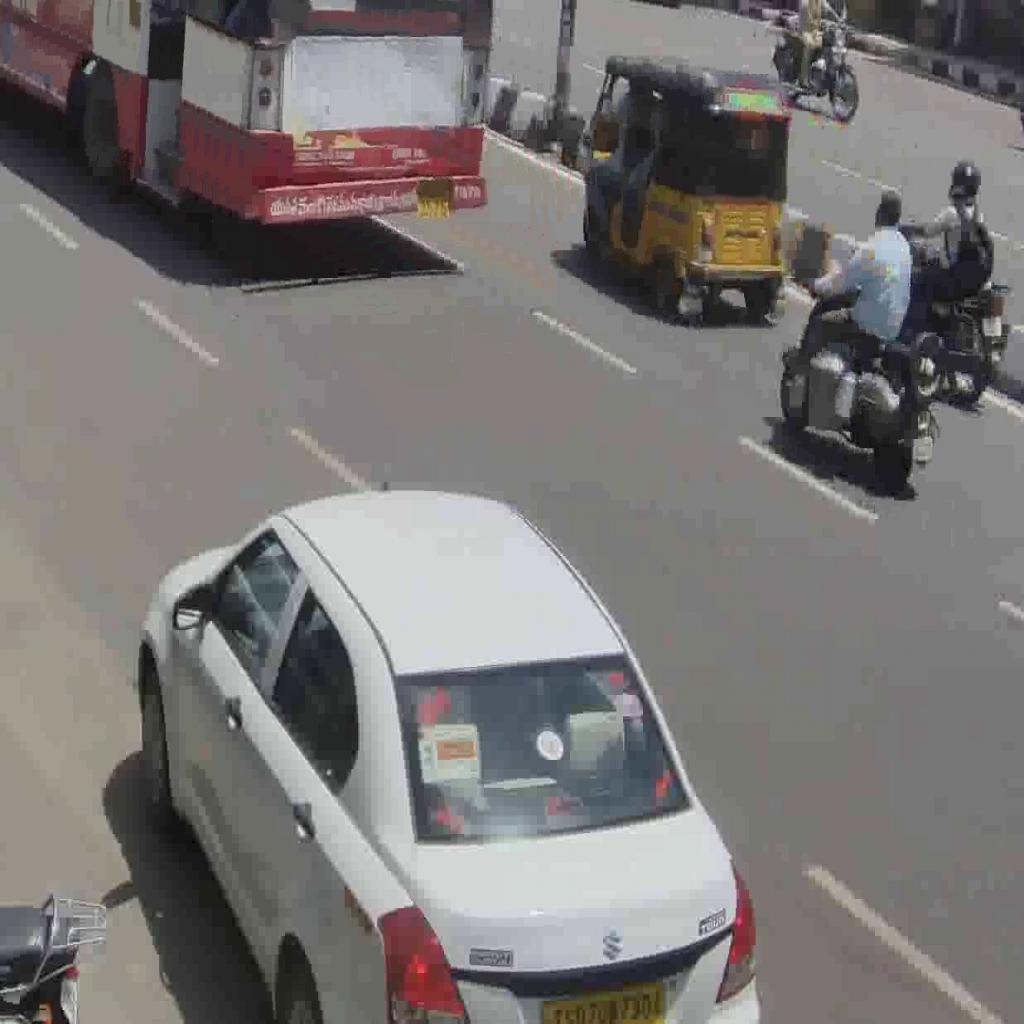helmet: (779, 258, 947, 492), (909, 219, 1009, 405)
